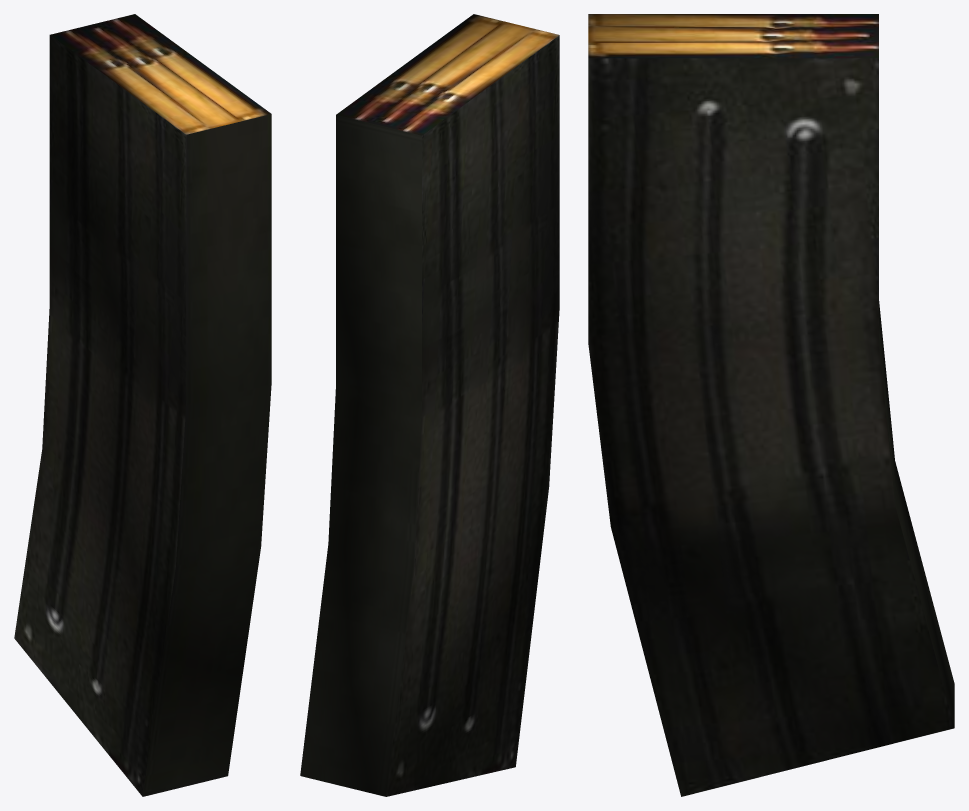
The model's file is i_mag_heavy.glb.
3 views of the same model, side by side, from view 1: azimuth 30°, elevation 25°; view 2: azimuth 150°, elevation 25°; view 3: azimuth 270°, elevation 25° (orthographic). The views are drawn at different scales.
Visible parts, largest first — view 1: i_mag_heavy; view 2: i_mag_heavy; view 3: i_mag_heavy.
Part boxes in pixels (box(x1,y1,x2,y2)): i_mag_heavy: box(14, 14, 271, 796); i_mag_heavy: box(300, 14, 559, 796); i_mag_heavy: box(588, 14, 954, 796).
Bounding box in the file's own units: 0.0215 × 0.1671 × 0.0751.
1 material, 1 textured.
